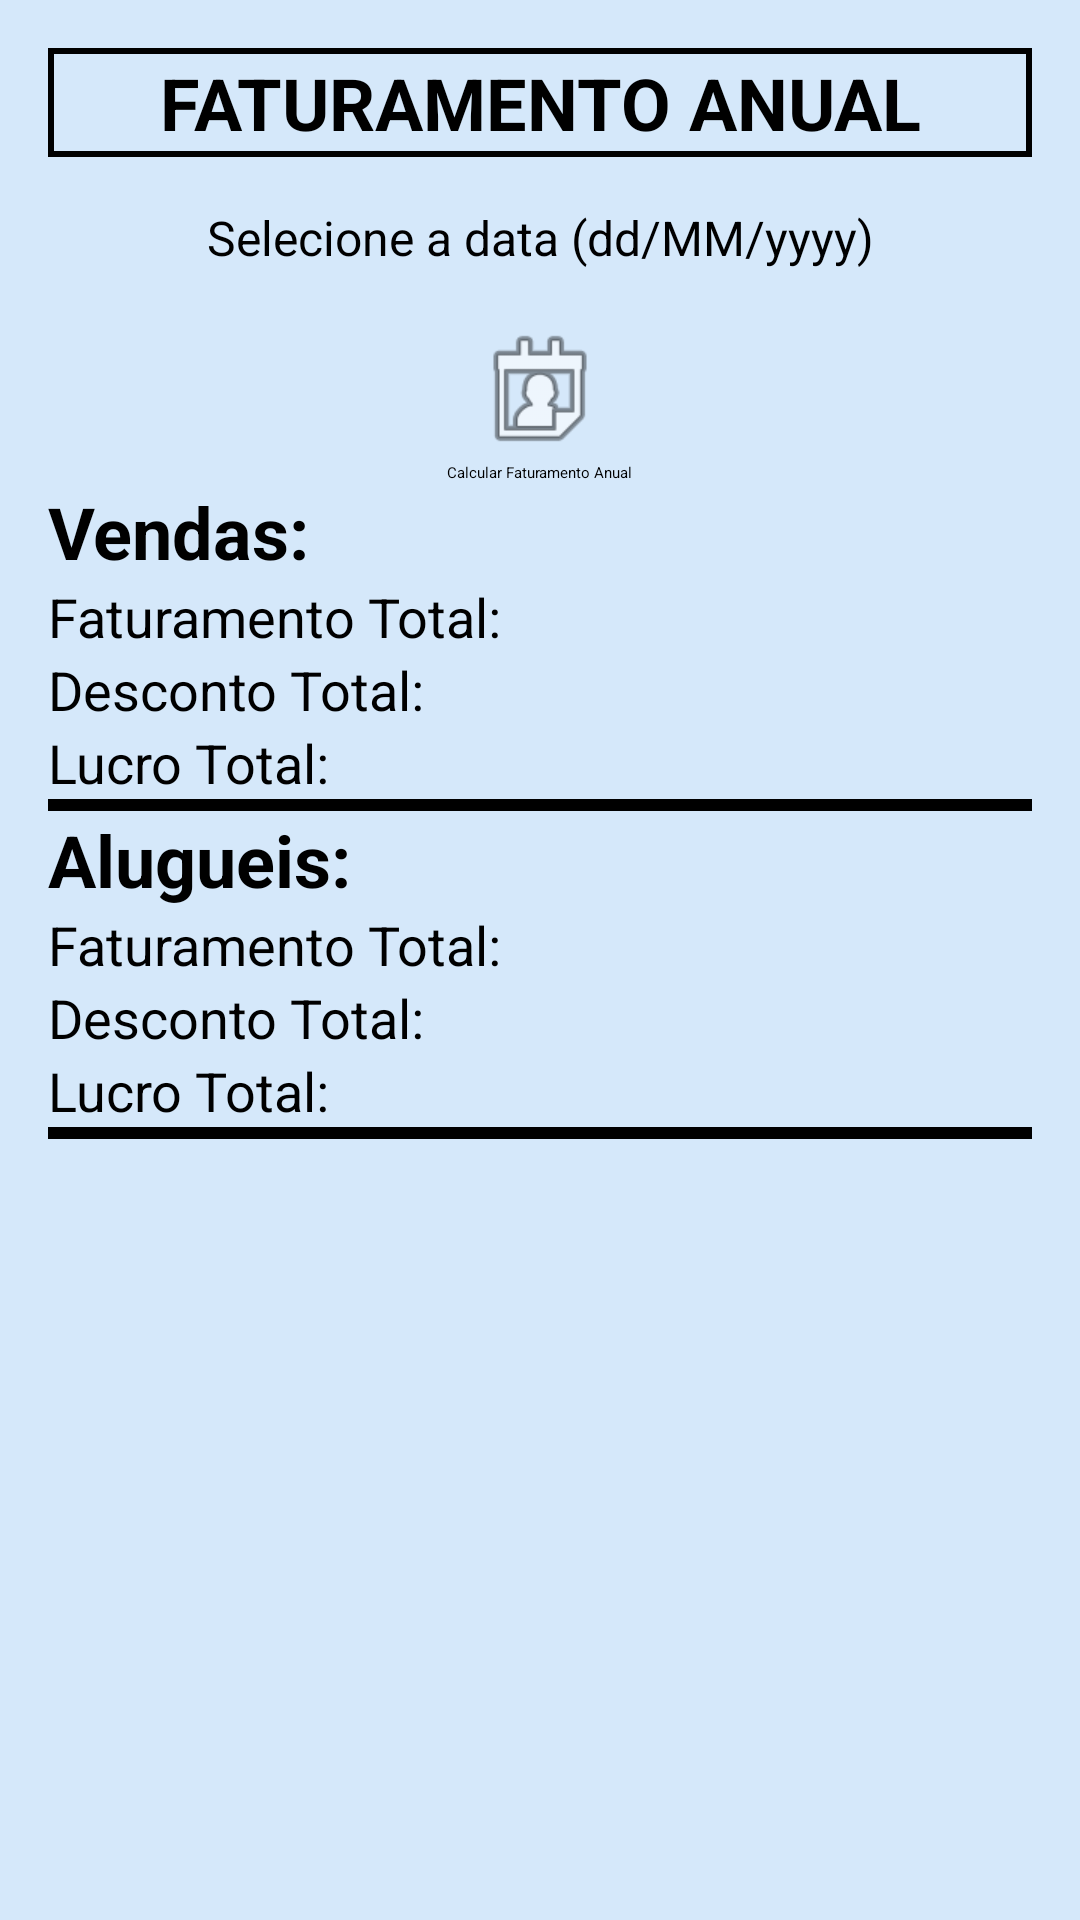

Icon click points for this 1080x1920 phone screenshot, format (x=x, y=y):
Abrir calendário: (x=540, y=388)
